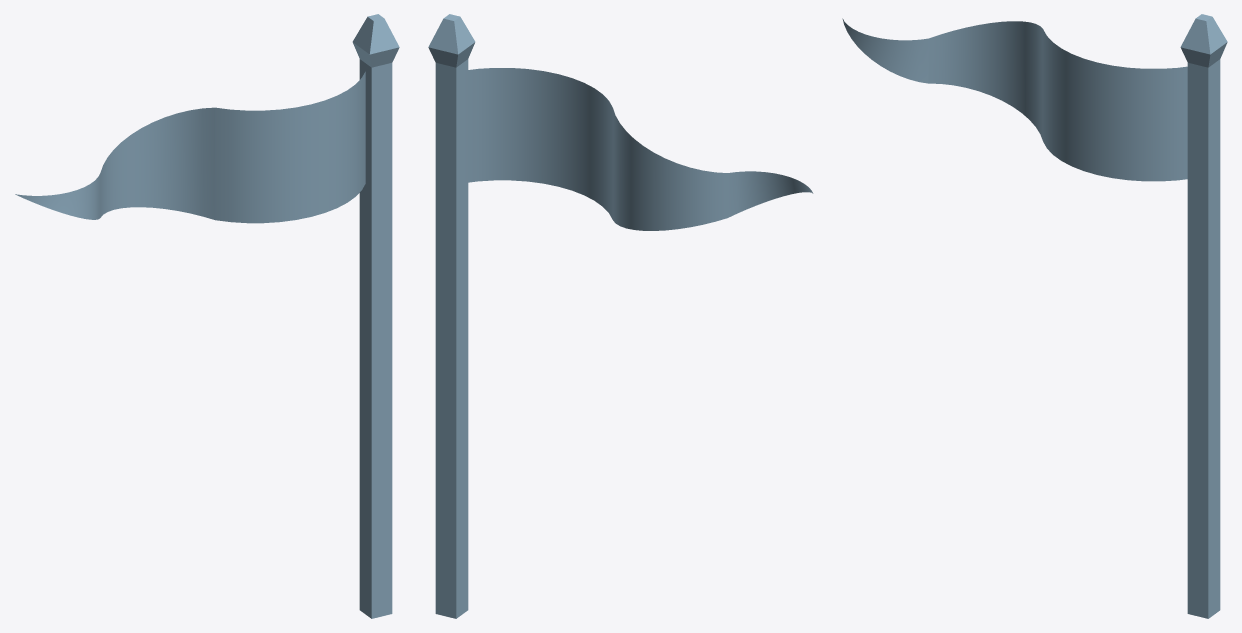
File: flagBlue.fbx
The picture shows the model from 3 angles, left to right: view 1: azimuth 30°, elevation 25°; view 2: azimuth 150°, elevation 25°; view 3: azimuth 330°, elevation 25°; orthographic projection.
Parts seen in each view (by area): view 1: flag, flagBlue; view 2: flag, flagBlue; view 3: flag, flagBlue.
Boxes of the visible parts, left/top/right/bottom form: flag: left=15, top=71, right=365, bottom=223; flagBlue: left=352, top=14, right=399, bottom=618; flag: left=462, top=68, right=813, bottom=230; flagBlue: left=428, top=14, right=475, bottom=618; flag: left=842, top=18, right=1187, bottom=181; flagBlue: left=1180, top=14, right=1227, bottom=618.
Size of the model in its own units: 158 by 238 by 26.97.
